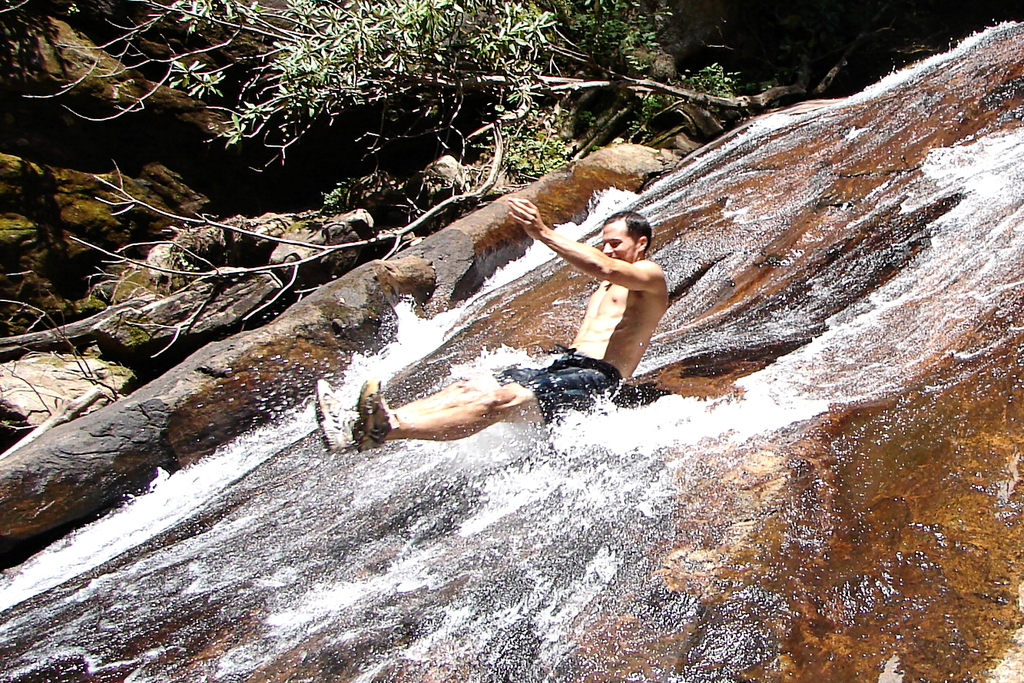Tree: (3, 0, 811, 359)
